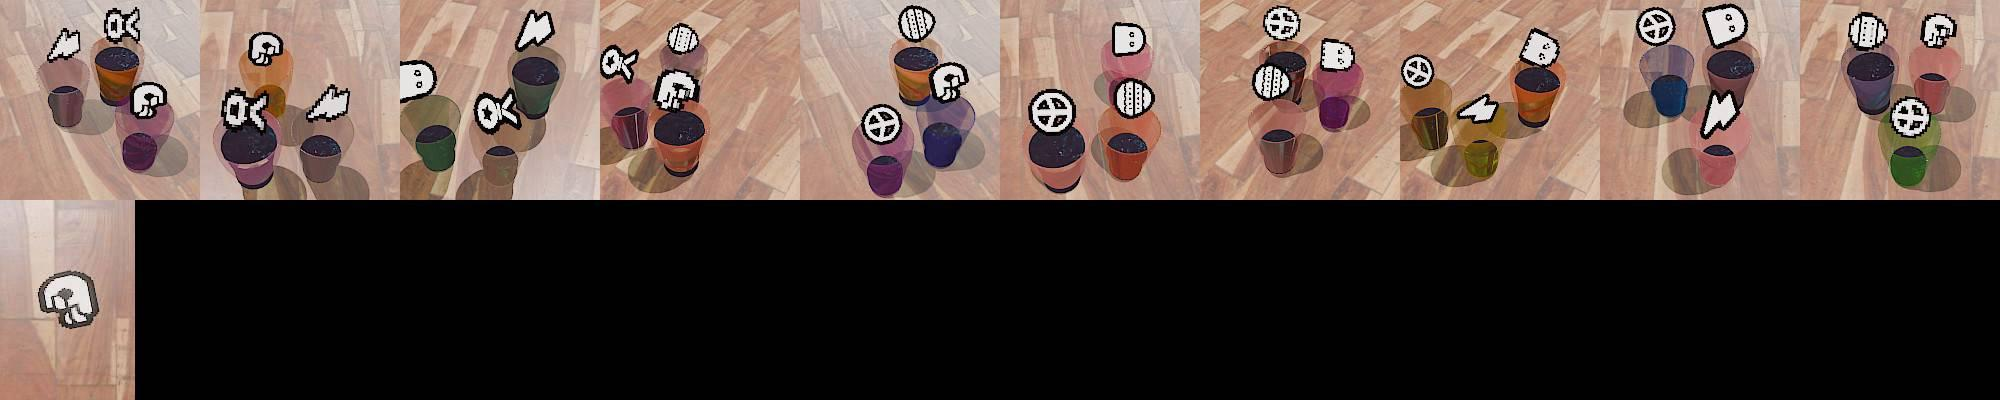icon: (36, 270, 100, 331), (473, 87, 523, 134), (220, 86, 271, 131), (1701, 3, 1748, 49), (1028, 88, 1075, 134), (653, 68, 701, 113), (1700, 87, 1741, 136), (302, 83, 351, 123), (860, 102, 903, 145), (1889, 97, 1931, 140), (514, 9, 555, 53), (1518, 27, 1562, 68), (928, 61, 969, 104), (1252, 61, 1295, 101), (1113, 77, 1154, 118), (1846, 13, 1888, 52), (399, 58, 436, 102), (599, 44, 639, 84), (1635, 6, 1675, 46), (103, 5, 142, 44), (130, 80, 168, 119), (897, 5, 936, 43), (1456, 92, 1501, 123), (1920, 13, 1957, 50), (1263, 5, 1300, 42), (247, 30, 285, 66), (1111, 20, 1147, 57), (1318, 37, 1356, 72), (665, 21, 701, 55), (48, 28, 82, 63), (1401, 54, 1433, 89)
